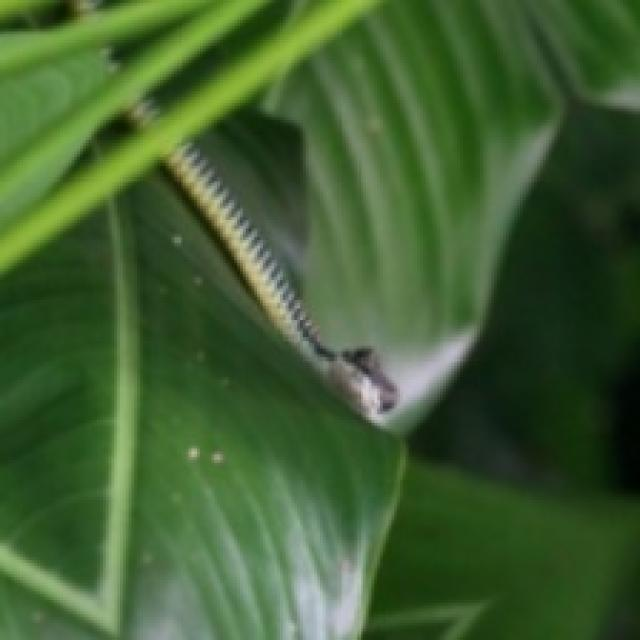paradise tree snake: (94, 0, 397, 420), (0, 0, 374, 269)
